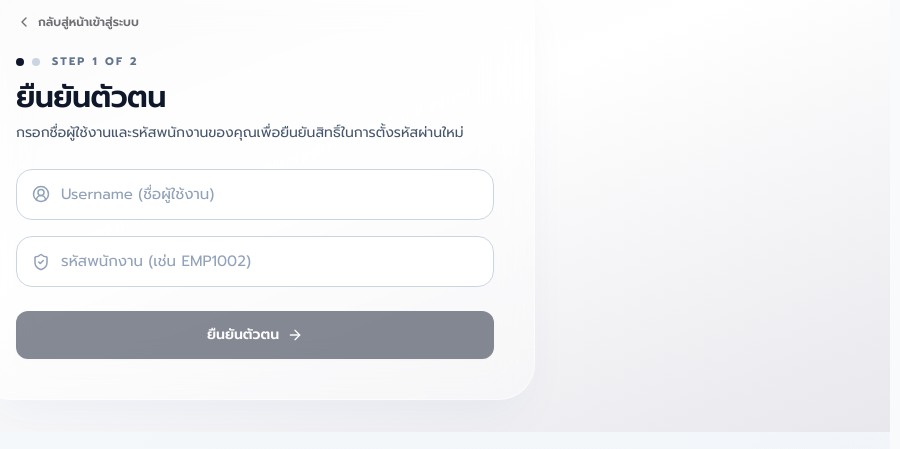
Test case: ForgotPassword Component (Streamlined 2-Step Employee ID Flow) › transitions directly to Step 2 (Set New Password) upon successful identity verification
Type "qsms_operator" into the field with placeholder "Username (ชื่อผู้ใช้งาน)".
click(255, 194); type("qsms_operator")  # box [16,168,494,220]
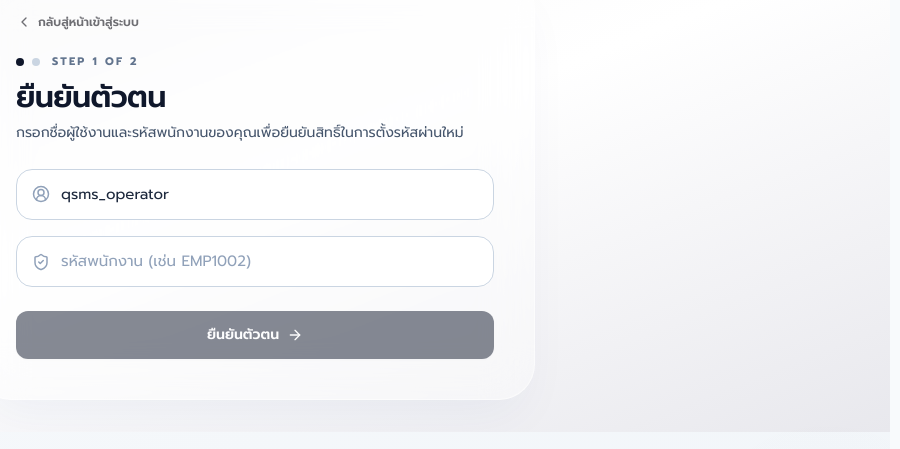
Type "EMP1002" into the field with placeholder "รหัสพนักงาน (เช่น EMP1002)".
click(255, 262); type("EMP1002")  # box [16,236,494,287]
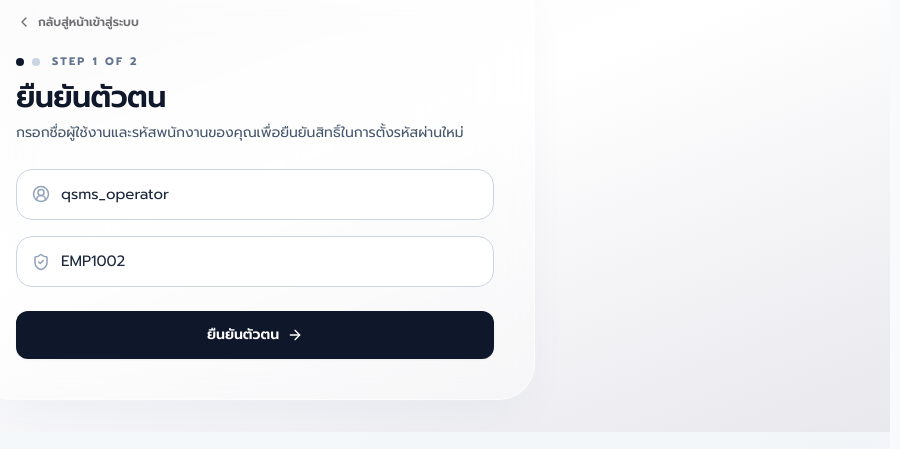
Click the button "ยืนยันตัวตน".
click(255, 335)  # box [16,311,494,359]
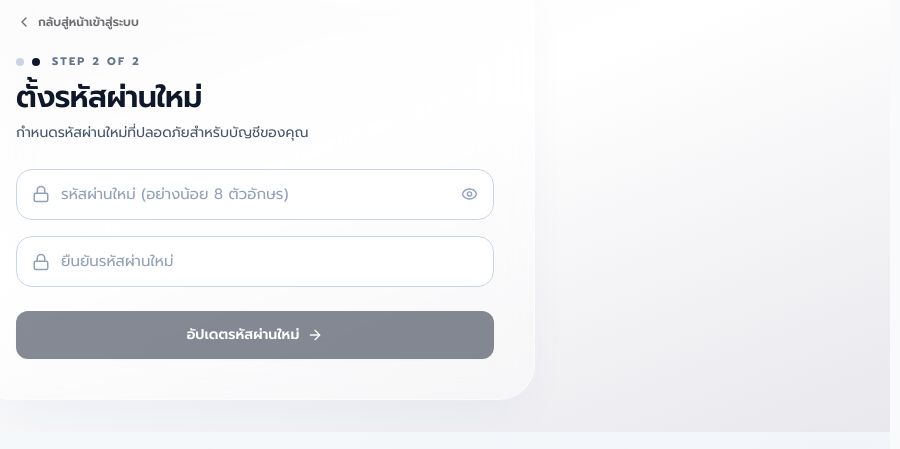
expect the heading "ตั้งรหัสผ่านใหม่" is shown: met, box [16,74,202,120]
